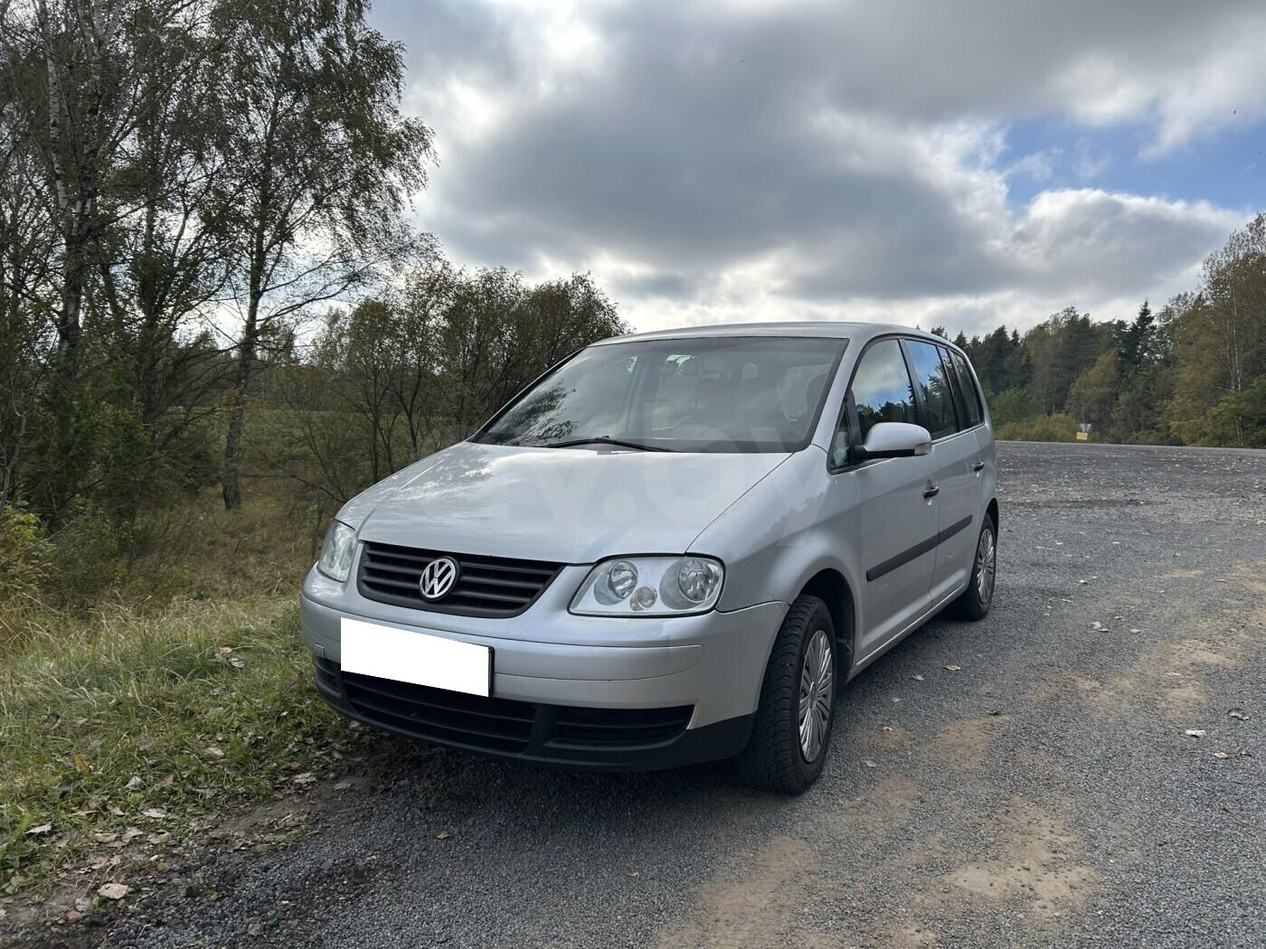Touran_2003-2006: (296, 315, 1006, 795)
